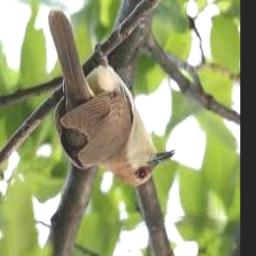Cuckoo: (48, 9, 174, 188)
